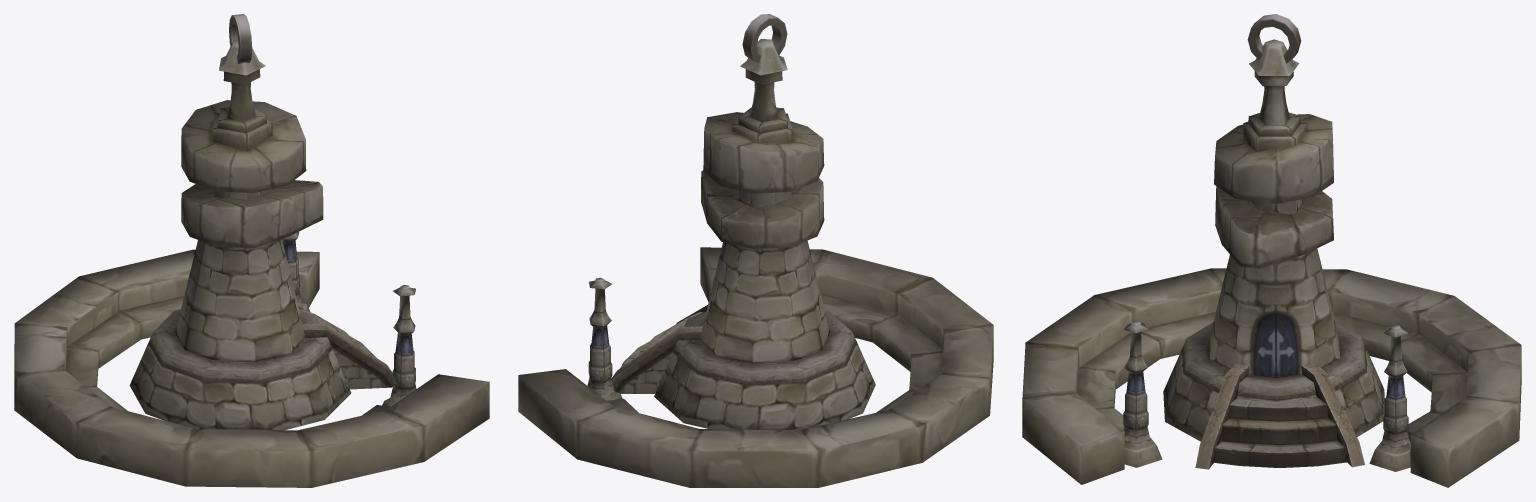
The model's file is jingjichang.FBX.
3 views of the same model, side by side, from view 1: azimuth 30°, elevation 25°; view 2: azimuth 150°, elevation 25°; view 3: azimuth 270°, elevation 25° (orthographic). The views are drawn at different scales.
Parts seen in each view (by area): view 1: maintown_pvp; view 2: maintown_pvp; view 3: maintown_pvp.
Boxes of the visible parts, x1,y1,x2,y2 form: maintown_pvp: (14,14,489,487); maintown_pvp: (518,14,993,487); maintown_pvp: (1022,14,1521,487).
Size of the model in its own units: 579 by 579 by 672.
